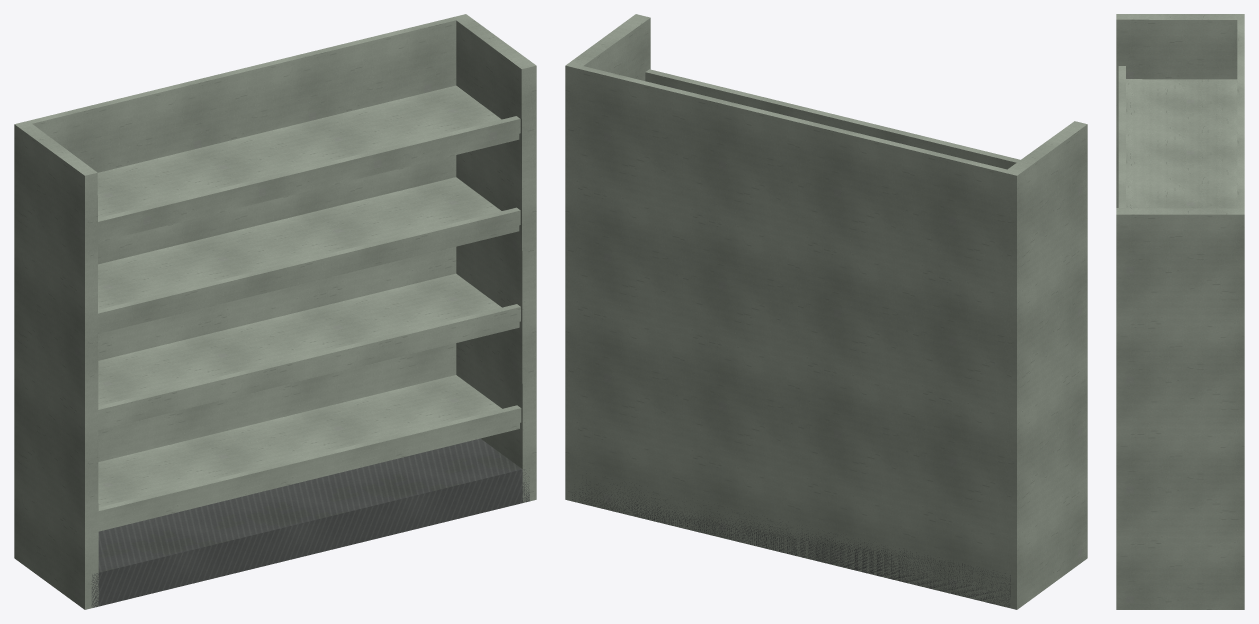
File: shelf_v1.glb
3 renders of one model, left to right at view 1: azimuth 30°, elevation 25°; view 2: azimuth 150°, elevation 25°; view 3: azimuth 270°, elevation 25°, orthographic. The views are drawn at different scales.
Parts seen in each view (by area): view 1: Variant_shelf_1; view 2: Variant_shelf_1; view 3: Variant_shelf_1.
Part boxes in pixels (x1=…): Variant_shelf_1: x1=14, y1=14, x2=536, y2=609; Variant_shelf_1: x1=565, y1=14, x2=1087, y2=609; Variant_shelf_1: x1=1116, y1=14, x2=1244, y2=609.
Size of the model in its own units: 1.96 by 1.8 by 0.53.
Materials: 2 (2 with a texture image).
